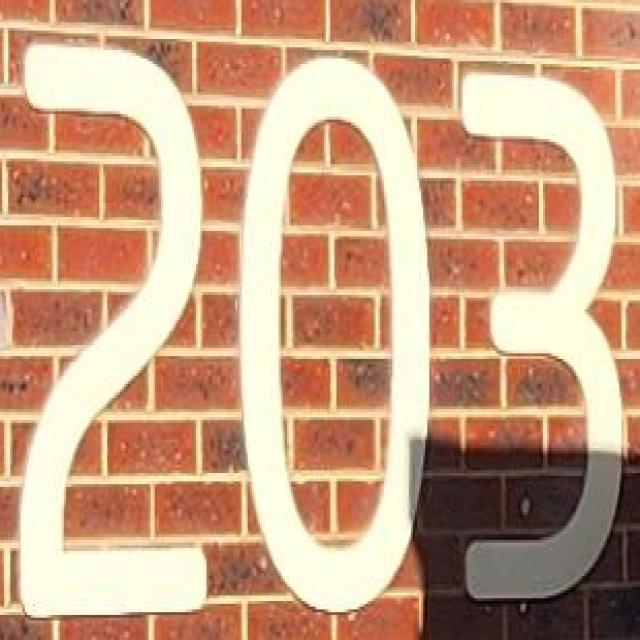character: (14, 37, 216, 625), (233, 53, 435, 616), (458, 67, 632, 606)
